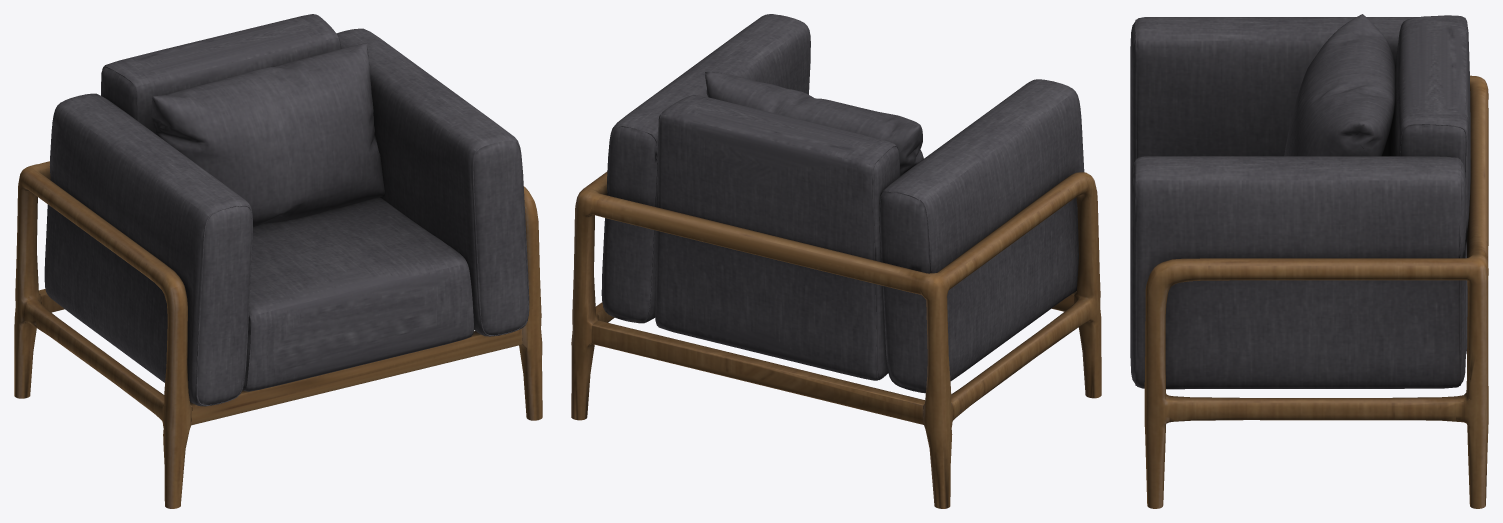
The model's file is raw_model.obj.
3 views of the same model, side by side, from view 1: azimuth 30°, elevation 25°; view 2: azimuth 150°, elevation 25°; view 3: azimuth 270°, elevation 25° (orthographic). The views are drawn at different scales.
Parts seen in each view (by area): view 1: solid_002, solid_001; view 2: solid_002, solid_001; view 3: solid_002, solid_001.
Boxes of the visible parts, bbox=[...] form: solid_002: bbox=[44, 14, 529, 406]; solid_001: bbox=[14, 161, 542, 508]; solid_002: bbox=[601, 14, 1084, 393]; solid_001: bbox=[571, 171, 1101, 508]; solid_002: bbox=[1130, 14, 1470, 389]; solid_001: bbox=[1144, 75, 1488, 508].
Size of the model in its own units: 0.7628 by 0.6245 by 0.5882.
Materials: 1 (1 with a texture image).
